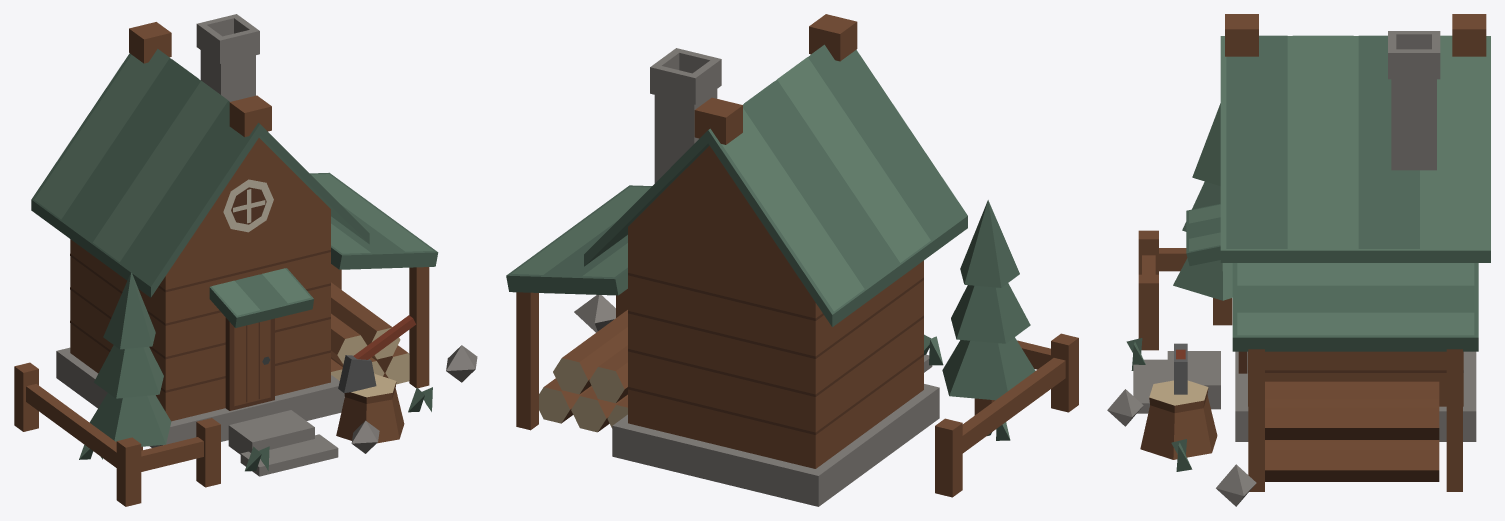
The model's file is lumber_camp.glb.
The picture shows the model from 3 angles, left to right: view 1: azimuth 30°, elevation 25°; view 2: azimuth 150°, elevation 25°; view 3: azimuth 270°, elevation 25°; orthographic projection. The views are drawn at different scales.
Parts seen in each view (by area): view 1: lumber_camp; view 2: lumber_camp; view 3: lumber_camp.
Boxes of the visible parts, x1=… form: lumber_camp: x1=14, y1=14, x2=477, y2=506; lumber_camp: x1=506, y1=14, x2=1078, y2=506; lumber_camp: x1=1107, y1=14, x2=1490, y2=506.
Bounding box in the file's own units: 0.4596 × 0.37 × 0.339.
